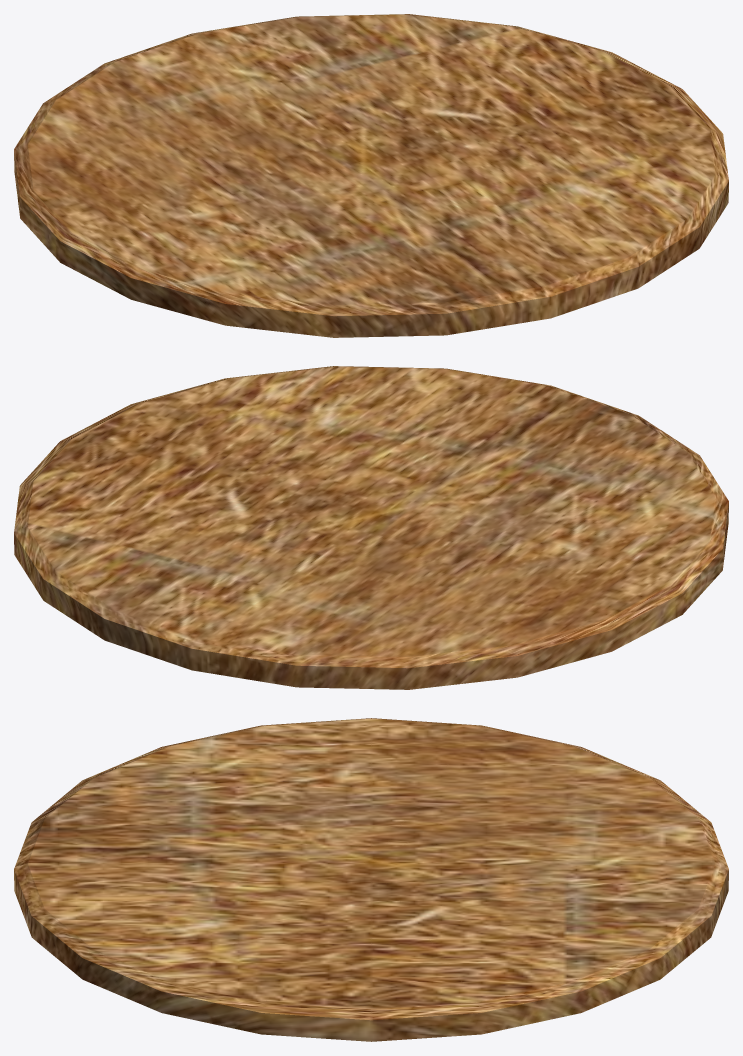
File: Plat_roccia01.FBX
3 renders of one model, top to bottom at view 1: azimuth 30°, elevation 25°; view 2: azimuth 150°, elevation 25°; view 3: azimuth 270°, elevation 25°, orthographic.
Parts seen in each view (by area): view 1: PlatRoccia01; view 2: PlatRoccia01; view 3: PlatRoccia01.
Part boxes in pixels (x1,y1,x2,y2): PlatRoccia01: (14,14,728,337); PlatRoccia01: (14,366,728,689); PlatRoccia01: (14,718,728,1041).
Size of the model in its own units: 804 by 40.32 by 804.
Materials: 1 (1 with a texture image).
